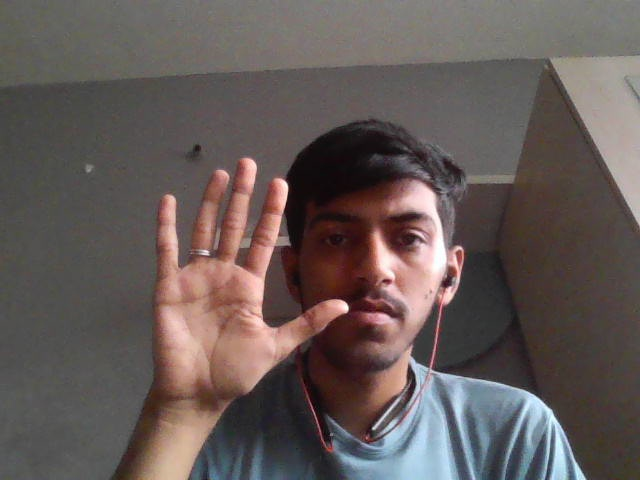Hello: (143, 152, 355, 407)
